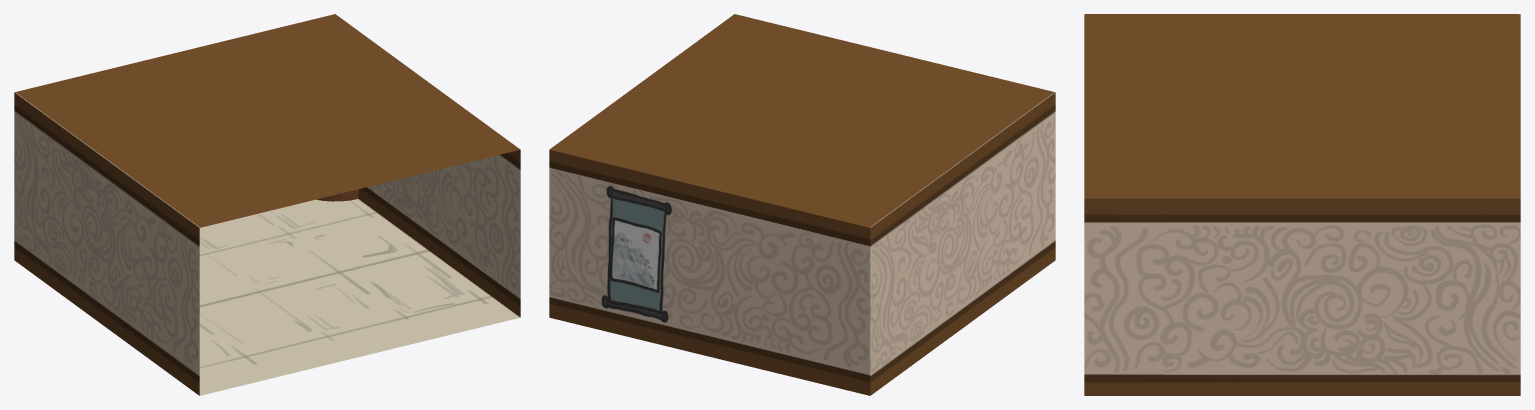
Rendered from Room.fbx.
3 renders of one model, left to right at view 1: azimuth 30°, elevation 25°; view 2: azimuth 150°, elevation 25°; view 3: azimuth 270°, elevation 25°, orthographic. The views are drawn at different scales.
Parts seen in each view (by area): view 1: RoomBox; view 2: RoomBox; view 3: RoomBox.
Part boxes in pixels (x1,y1,x2,y2): RoomBox: [14, 14, 520, 395]; RoomBox: [549, 14, 1055, 395]; RoomBox: [1084, 14, 1520, 395].
Size of the model in its own units: 200 by 200 by 100.
Materials: 2 (2 with a texture image).
